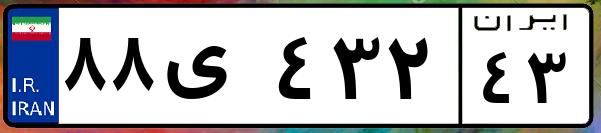2: (385, 28, 445, 110)
3: (330, 28, 385, 110), (525, 38, 570, 115)
4: (270, 28, 330, 110), (475, 38, 525, 113)
8: (57, 26, 110, 100), (110, 28, 158, 98)
ی: (158, 20, 270, 120)
